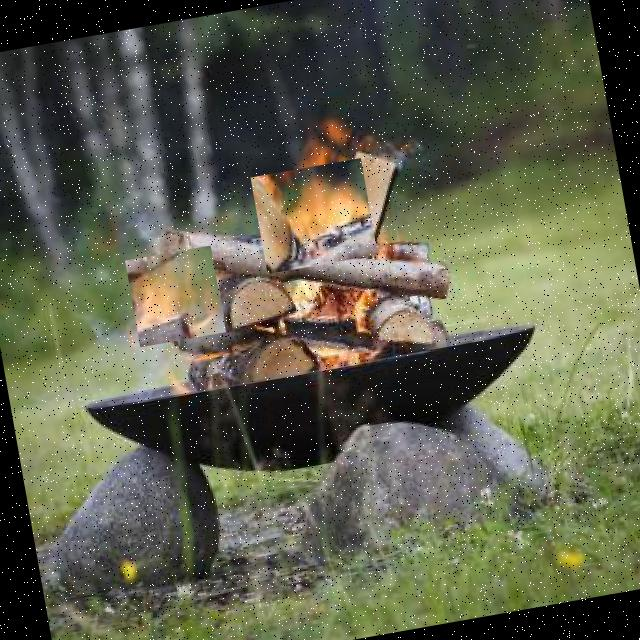fire: (250, 158, 378, 274), (124, 245, 226, 347)
